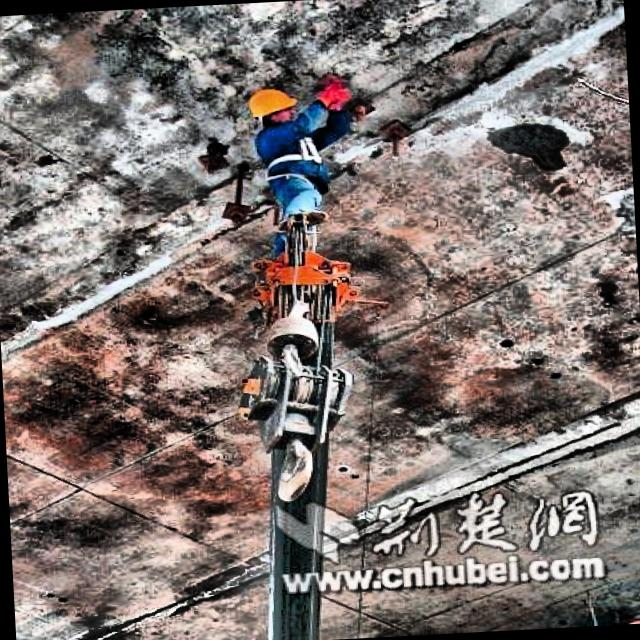helmet: (243, 84, 300, 132)
